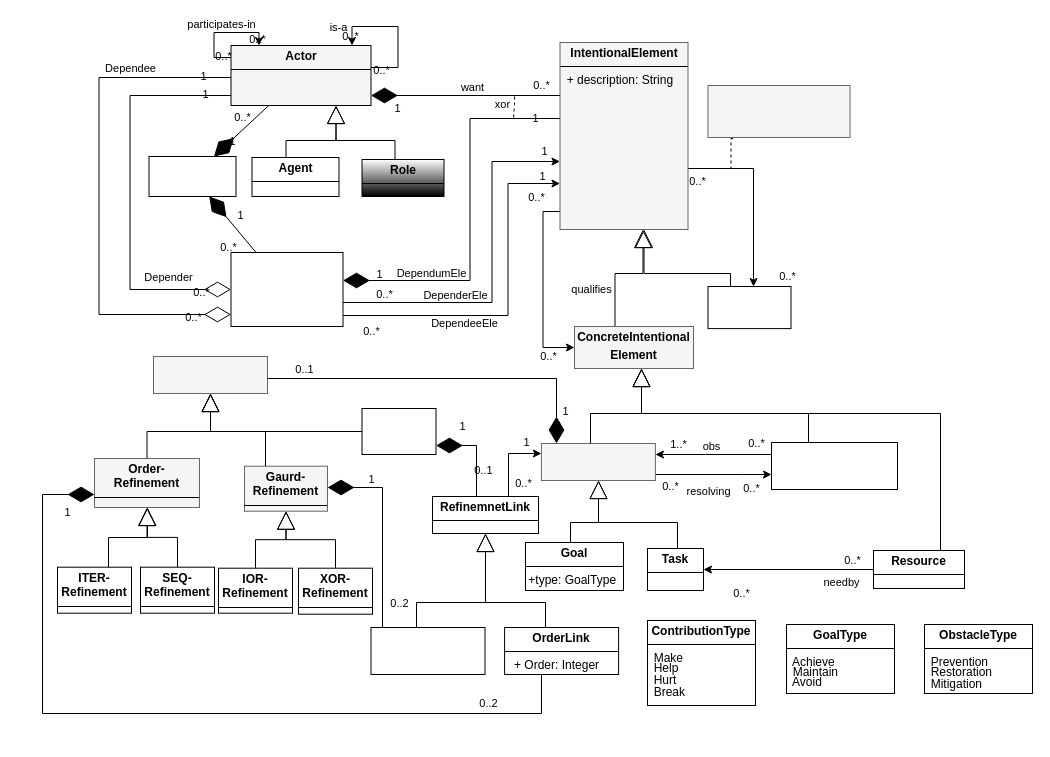
Some shapes in this 1050 by 757 pixel diagram are drawn without their labels. Each missing label, with the centre of its shape:
Contribution + con: ContributionType: the point at 778,111
Dependency: the point at 286,289
GaurdLink + Graurd: Boolean: the point at 427,650
GoalModel: the point at 192,176
GoalTask Element: the point at 597,461
Obstacle + type: ObstacleType: the point at 834,466
PAR-Refinement: the point at 398,431
Quality: the point at 749,307
Refinement: the point at 210,375
